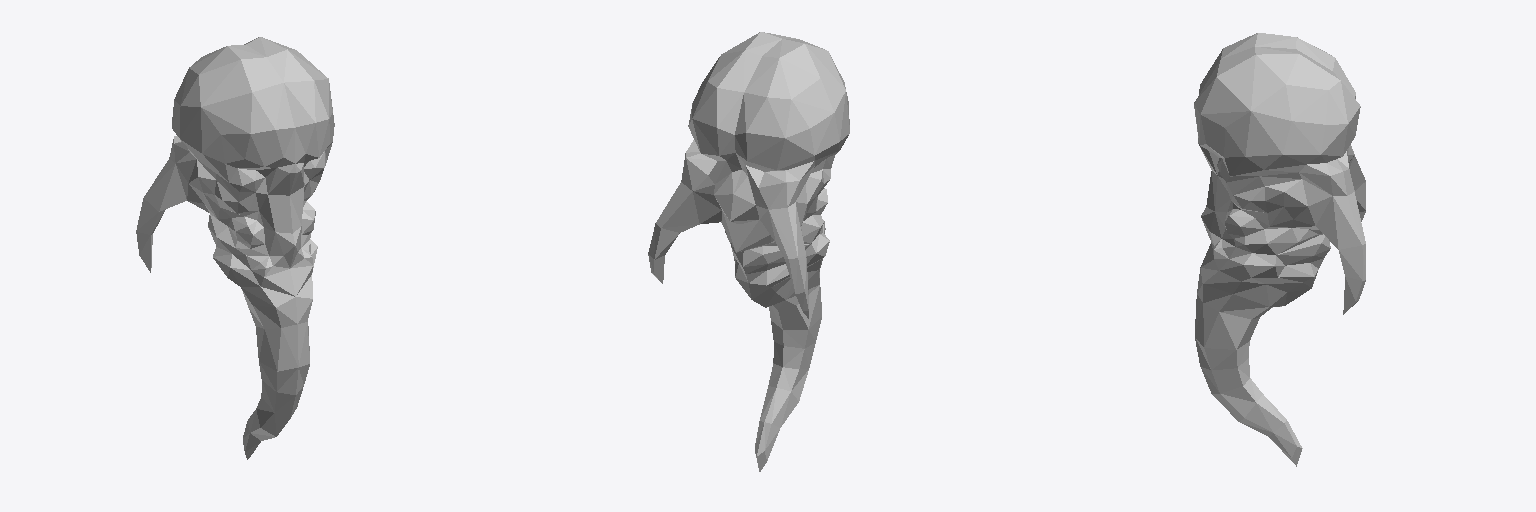
File: demon.obj
The picture shows the model from 3 angles: view 1: azimuth 30°, elevation 25°; view 2: azimuth 150°, elevation 25°; view 3: azimuth 270°, elevation 25°; orthographic projection.
Visible parts, largest first — view 1: demon; view 2: demon; view 3: demon.
Part boxes in pixels (x1,y1,x2,y2): demon: (136, 37, 334, 459); demon: (648, 32, 849, 471); demon: (1194, 33, 1365, 466).
Bounding box in the file's own units: 0.4852 × 1.24 × 0.4597.